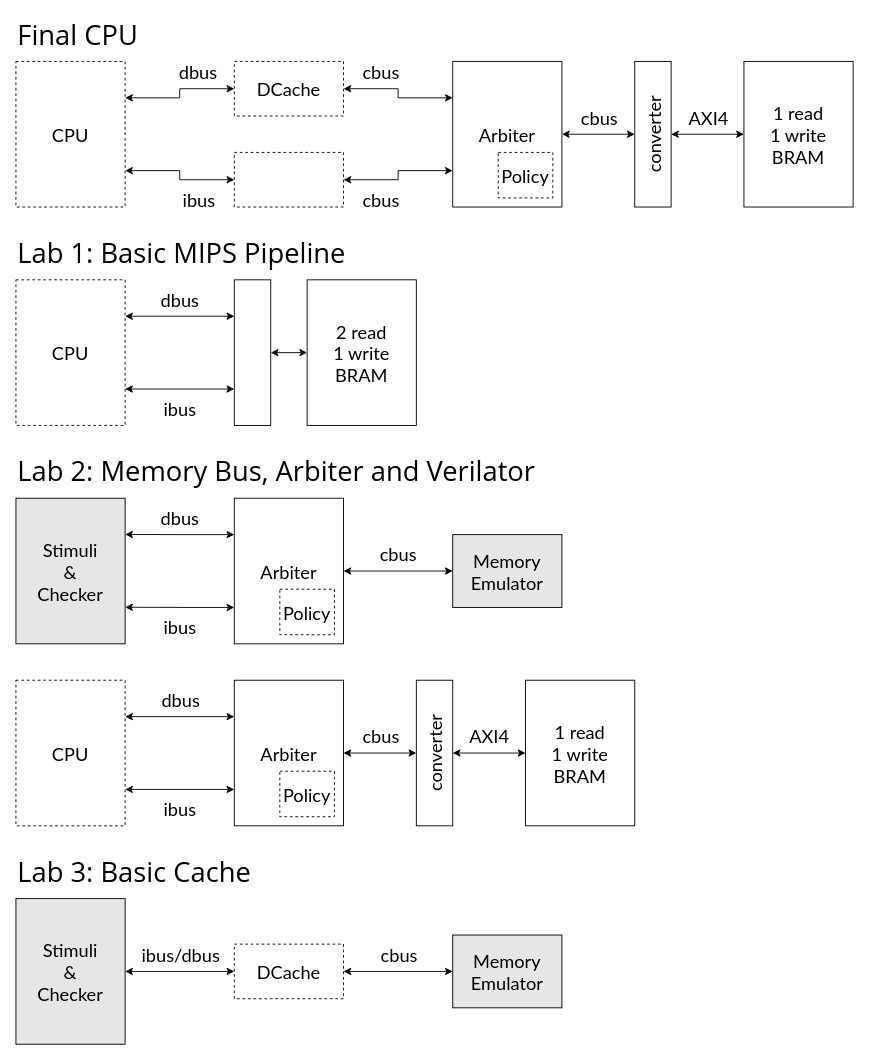
The diagram is 869 pixels wide and 1060 high, and some of its shapes have lost their labels. Each missing label, with the box of its shape:
ICache: (233, 152, 344, 207)
wrapper: (233, 279, 271, 425)
